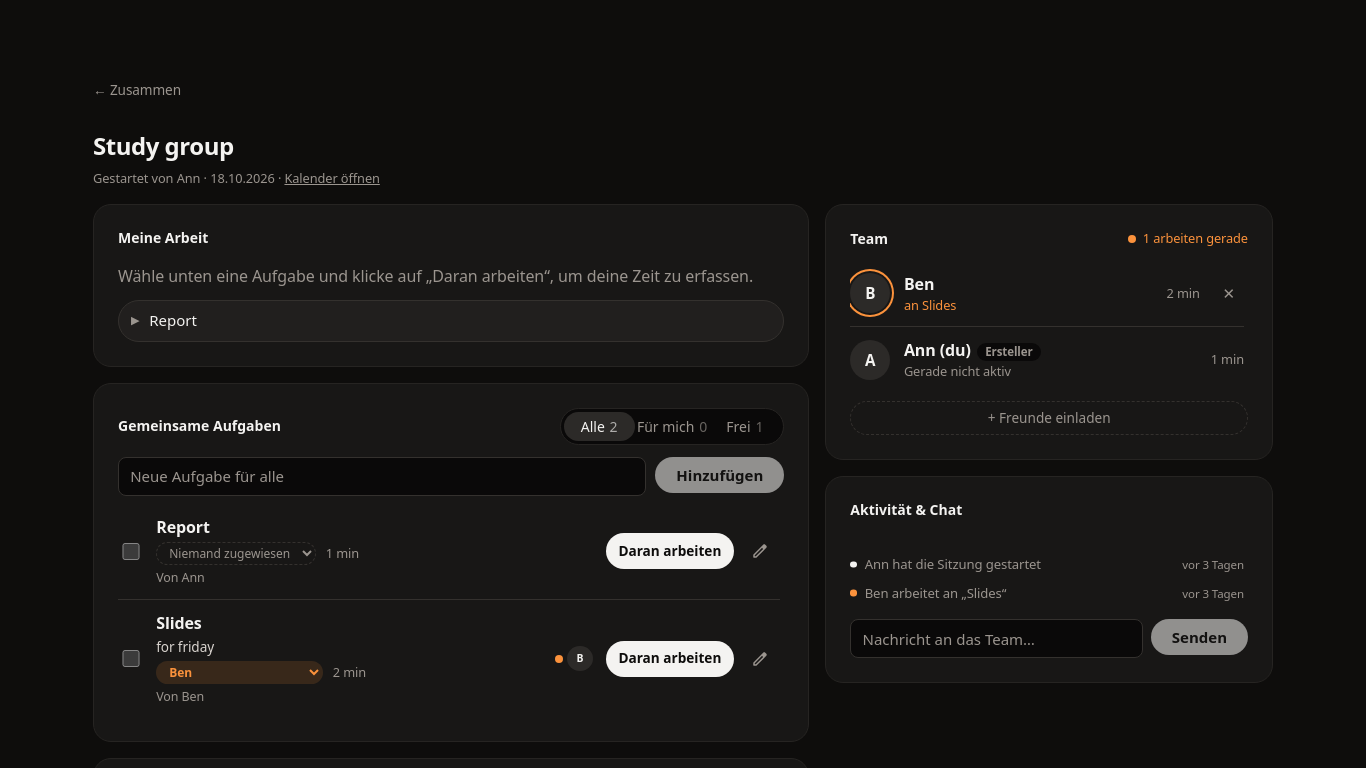
Scenario: Shared session page › sends chat messages
Type "Hallo zusammen" into the field with placeholder "Nachricht an das Team…".
click(997, 639); type("Hallo zusammen")  # box [850,619,1143,658]
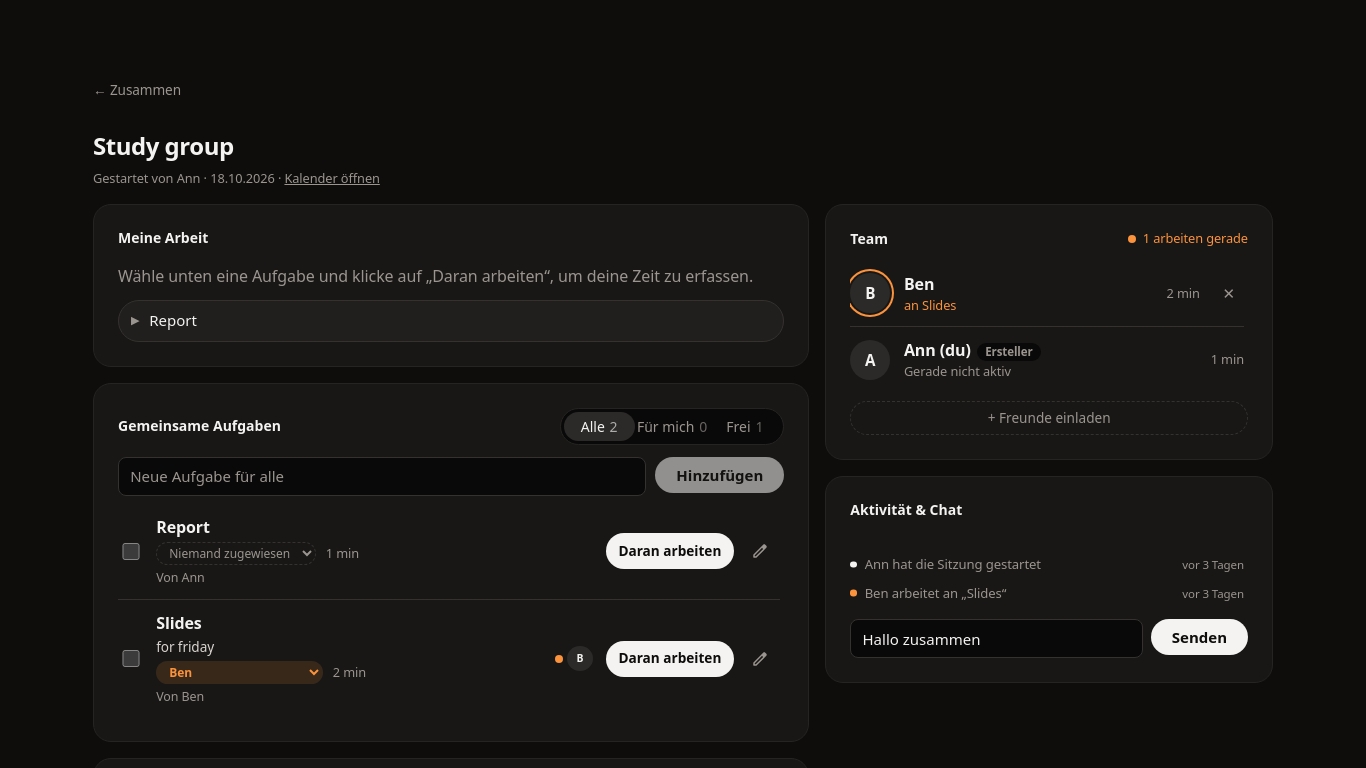
Submit the form with placeholder "Nachricht an das Team…", box [850,619,1248,658]
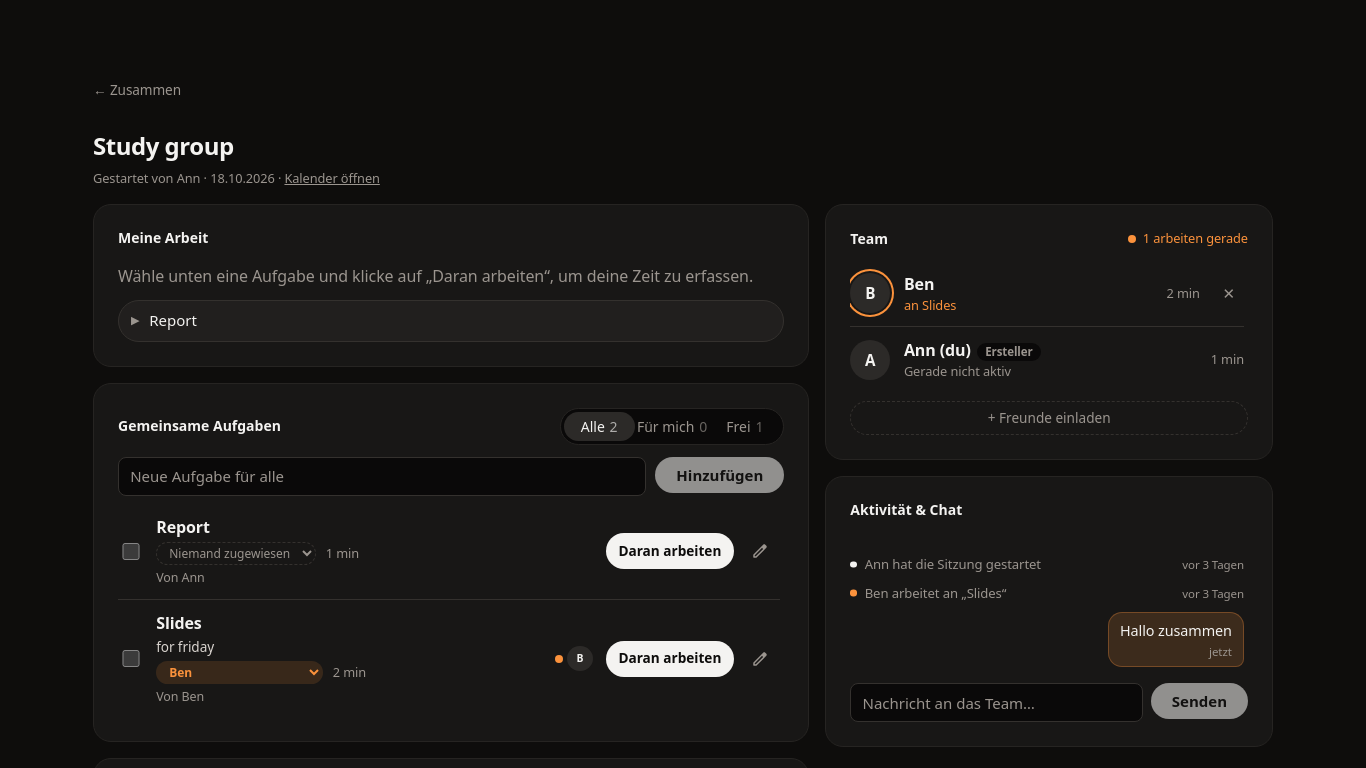
Now the text "Hallo zusammen" is shown, box [1120,620,1232,641]
Now the field with placeholder "Nachricht an das Team…" is empty, box [850,684,1143,722]
